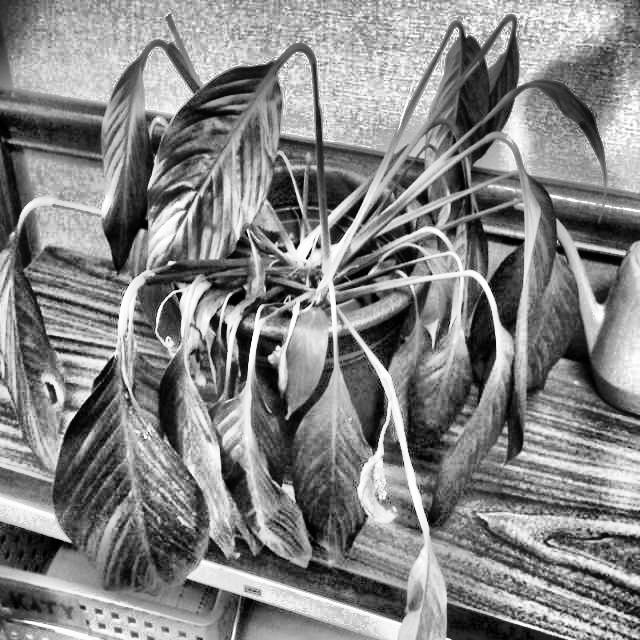plants: (9, 8, 582, 592), (0, 186, 106, 471), (308, 283, 410, 537)
